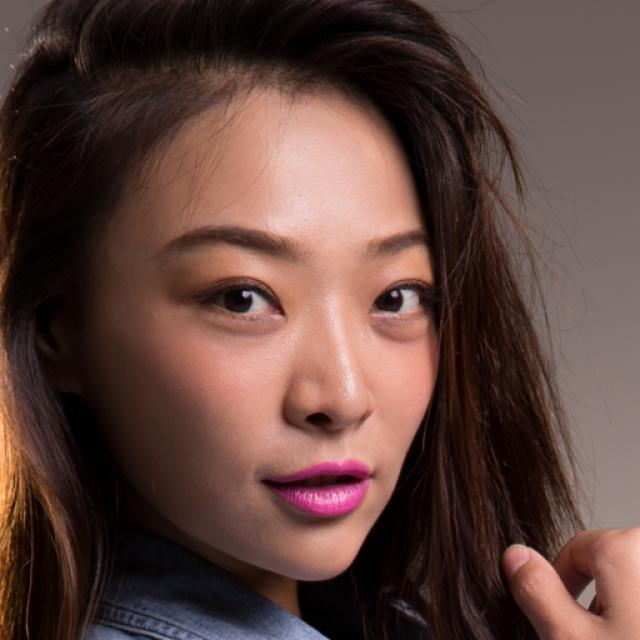surprise: (89, 90, 444, 582)
